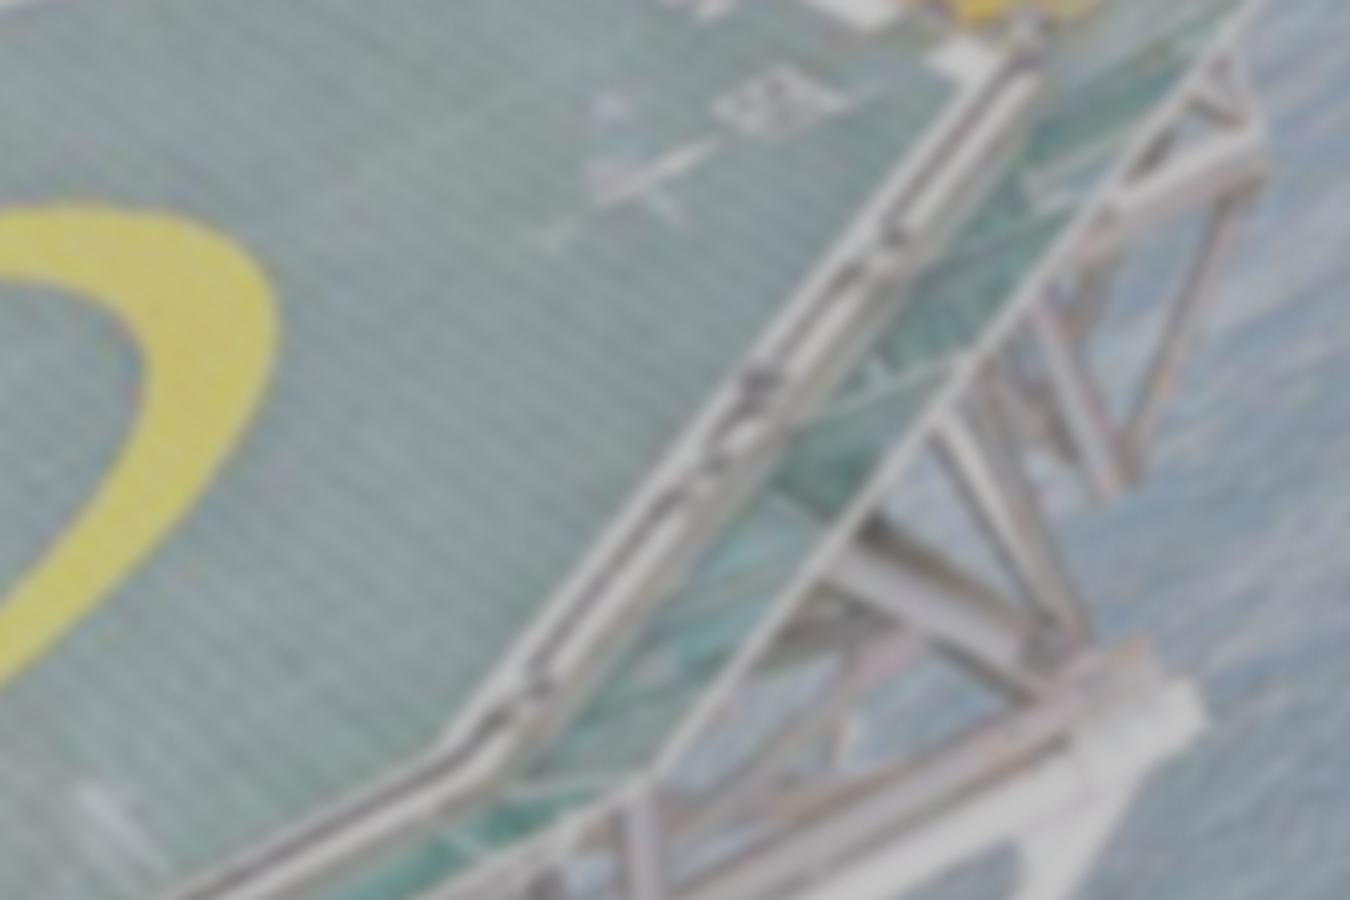Apron: (1, 198, 290, 694)
